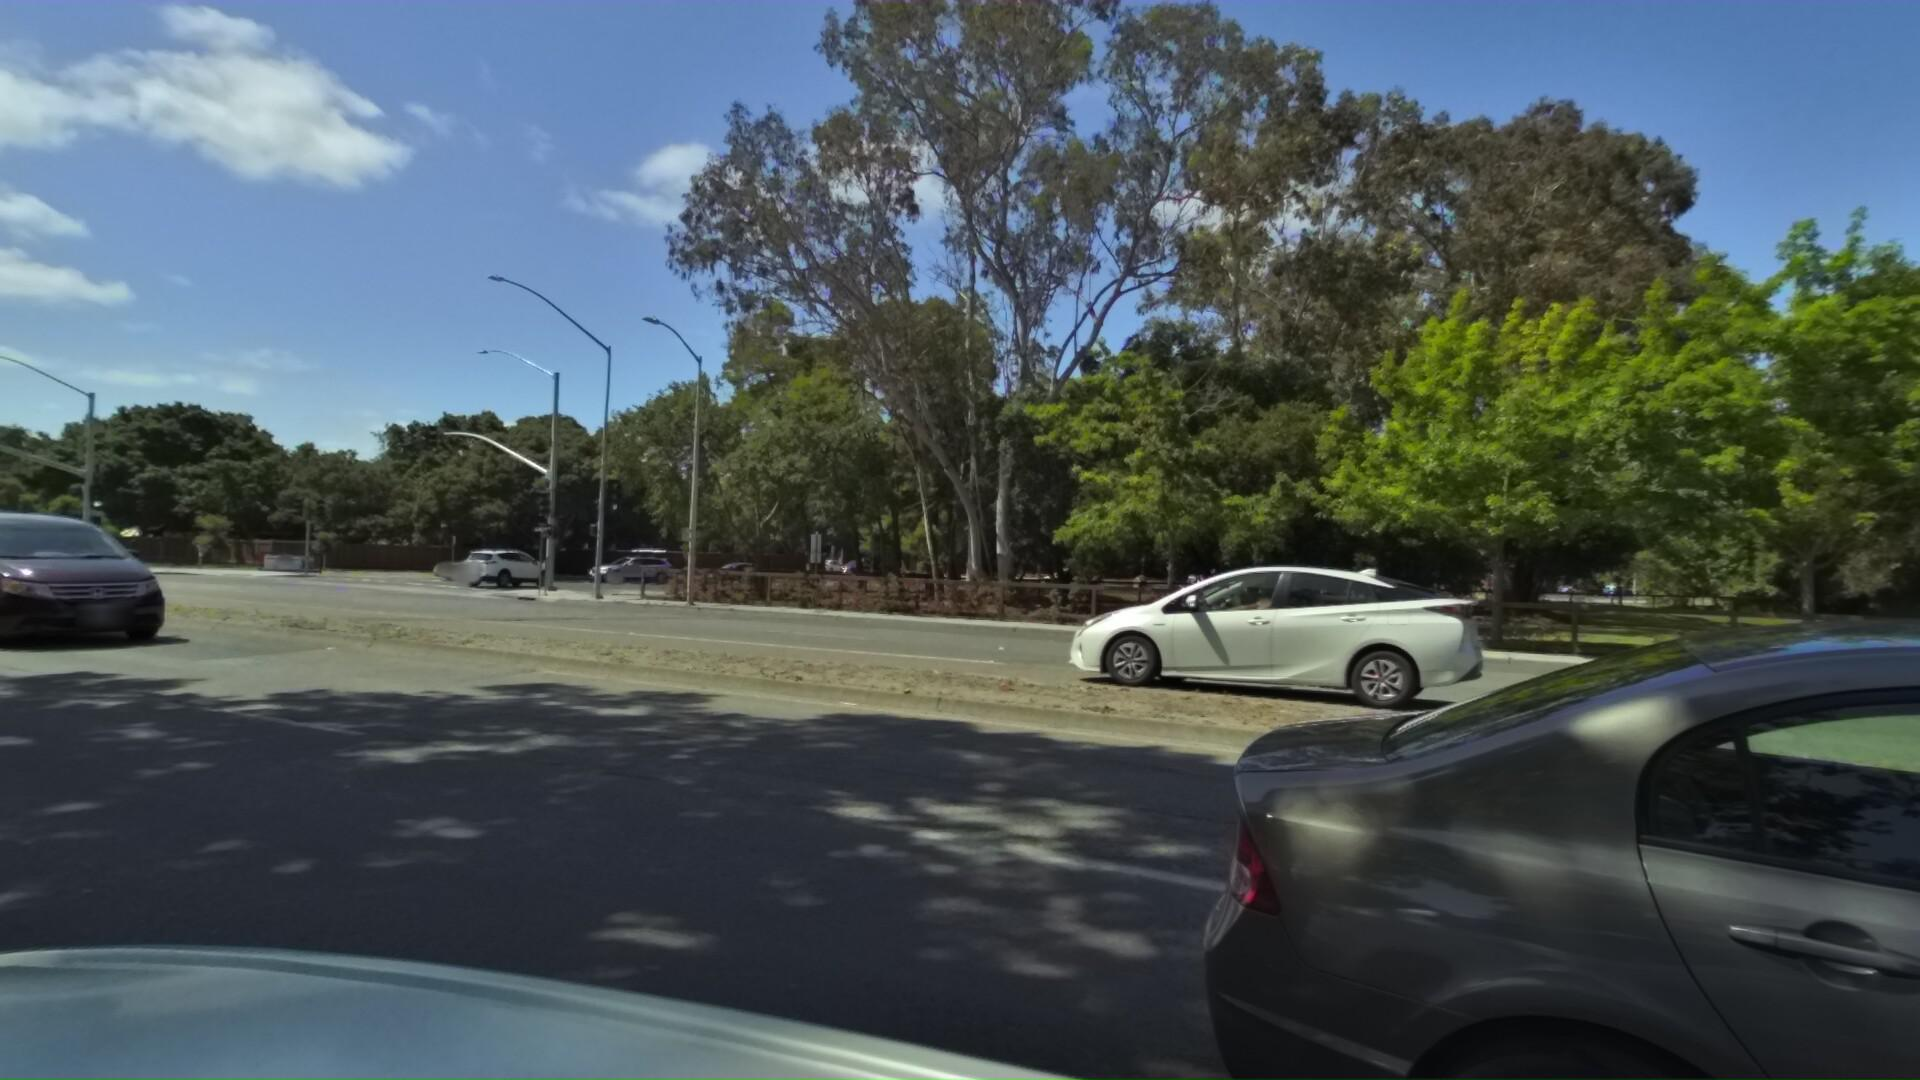car: (1189, 574, 1920, 1080), (992, 546, 1408, 713), (0, 500, 193, 654), (452, 549, 560, 591), (417, 550, 537, 585), (574, 553, 671, 589)
